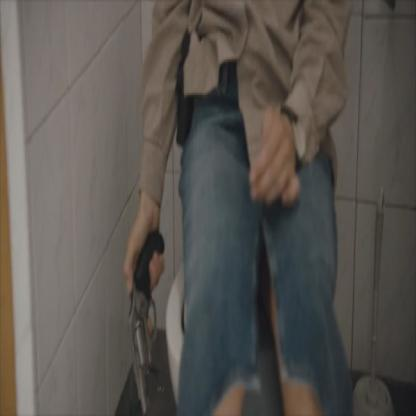Guns: (124, 221, 166, 414)
